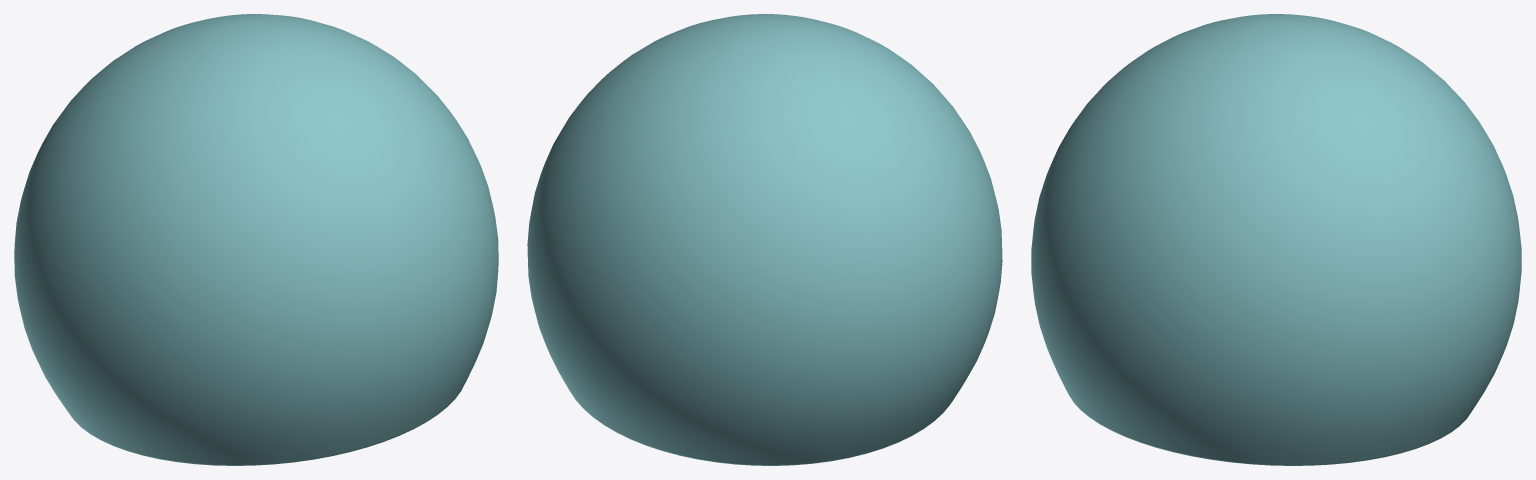
The picture shows the model from 3 angles, left to right: view 1: azimuth 30°, elevation 25°; view 2: azimuth 150°, elevation 25°; view 3: azimuth 270°, elevation 25°; orthographic projection. The views are drawn at different scales.
Visible parts, largest first — view 1: 左侧眼球后段; view 2: 左侧眼球后段; view 3: 左侧眼球后段.
Boxes of the visible parts, box(x1,y1,x2,y2) form: 左侧眼球后段: box(14, 14, 498, 465); 左侧眼球后段: box(527, 14, 1002, 465); 左侧眼球后段: box(1031, 14, 1521, 465).
Bounding box in the file's own units: 0.0352 × 0.0286 × 0.0351.
